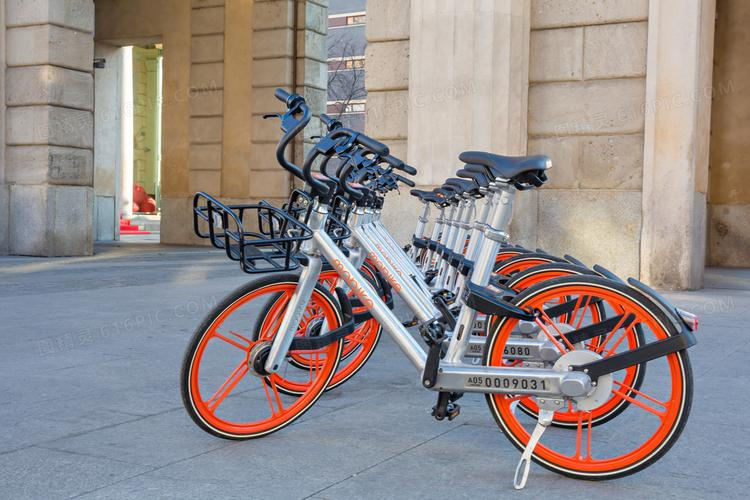单车: (181, 61, 700, 498)
